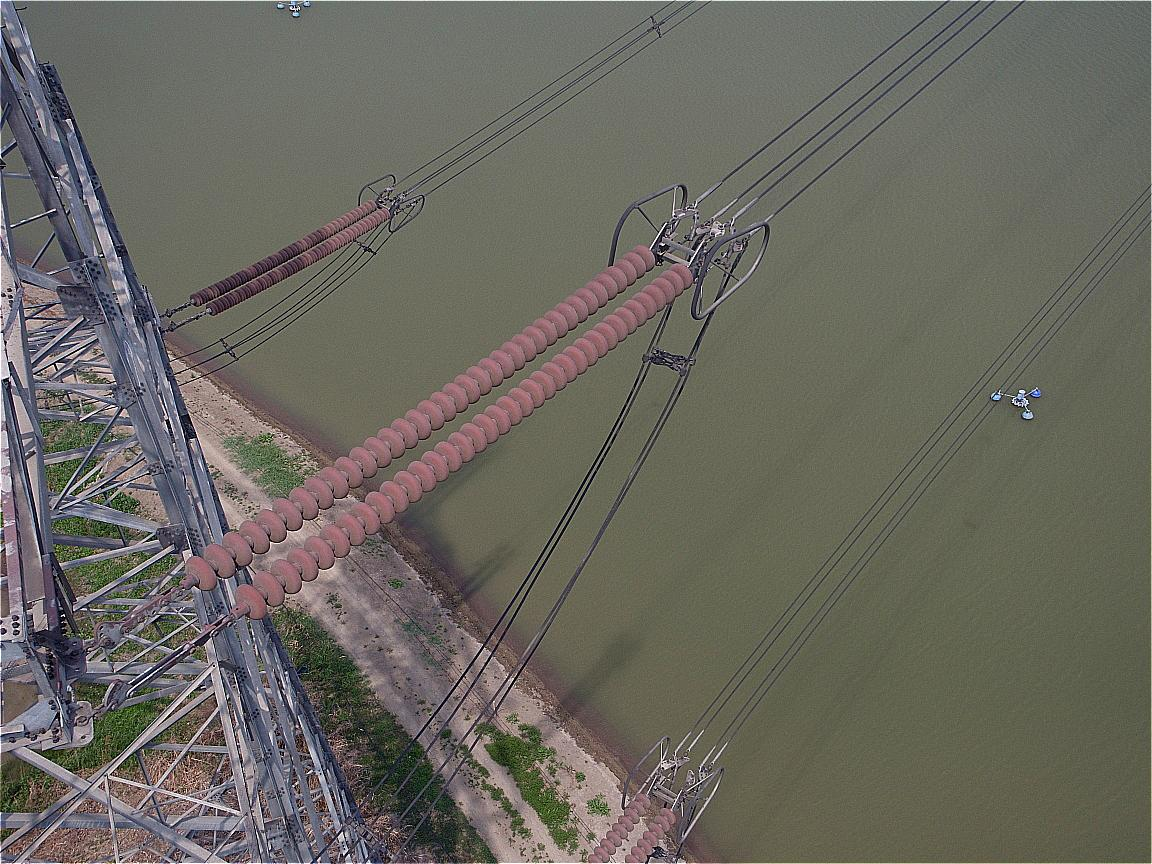insultor1: (184, 243, 694, 621)
insultor2: (190, 200, 391, 319)
